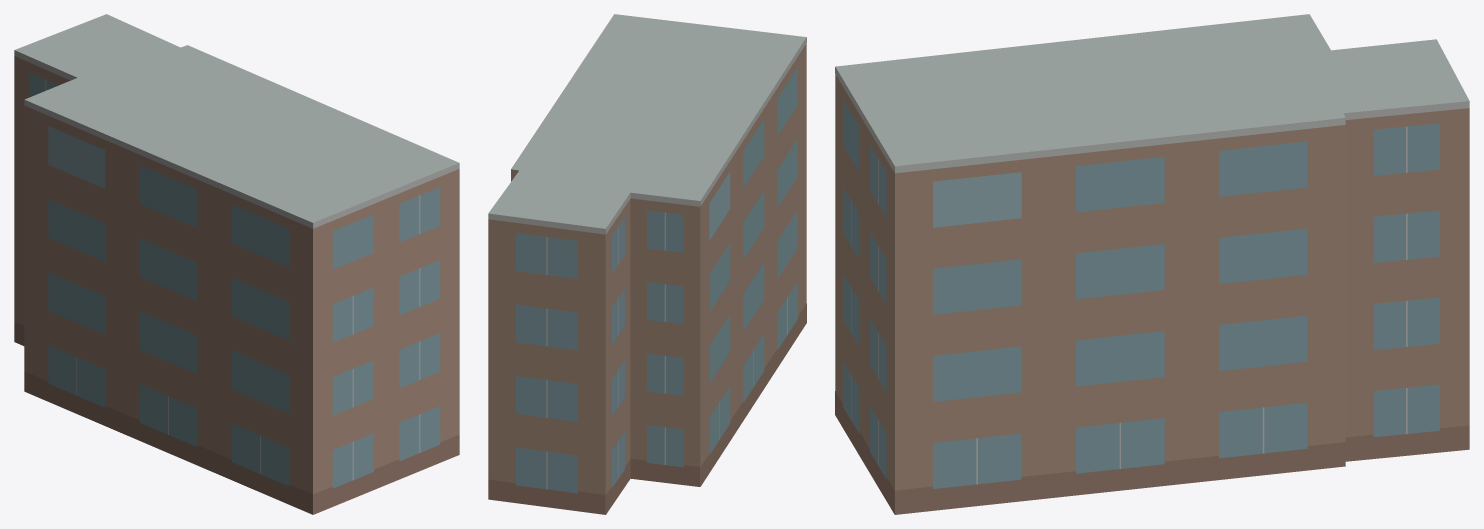
The model's file is survey-upis-32712862.glb.
3 renders of one model, left to right at view 1: azimuth 30°, elevation 25°; view 2: azimuth 150°, elevation 25°; view 3: azimuth 270°, elevation 25°, orthographic. The views are drawn at different scales.
Visible parts, largest first — view 1: survey-upis-32712862.tmp; view 2: survey-upis-32712862.tmp; view 3: survey-upis-32712862.tmp.
Part boxes in pixels (<box>): survey-upis-32712862.tmp: <box>14,14,459,514</box>; survey-upis-32712862.tmp: <box>488,14,806,514</box>; survey-upis-32712862.tmp: <box>835,14,1469,514</box>.
Size of the model in its own units: 11.45 by 12.2 by 20.14.
